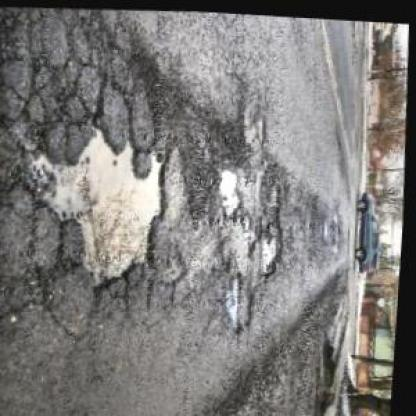pothole: (18, 111, 180, 302), (226, 269, 259, 334), (216, 162, 246, 219), (261, 219, 288, 279), (246, 214, 266, 260), (257, 114, 269, 140)
